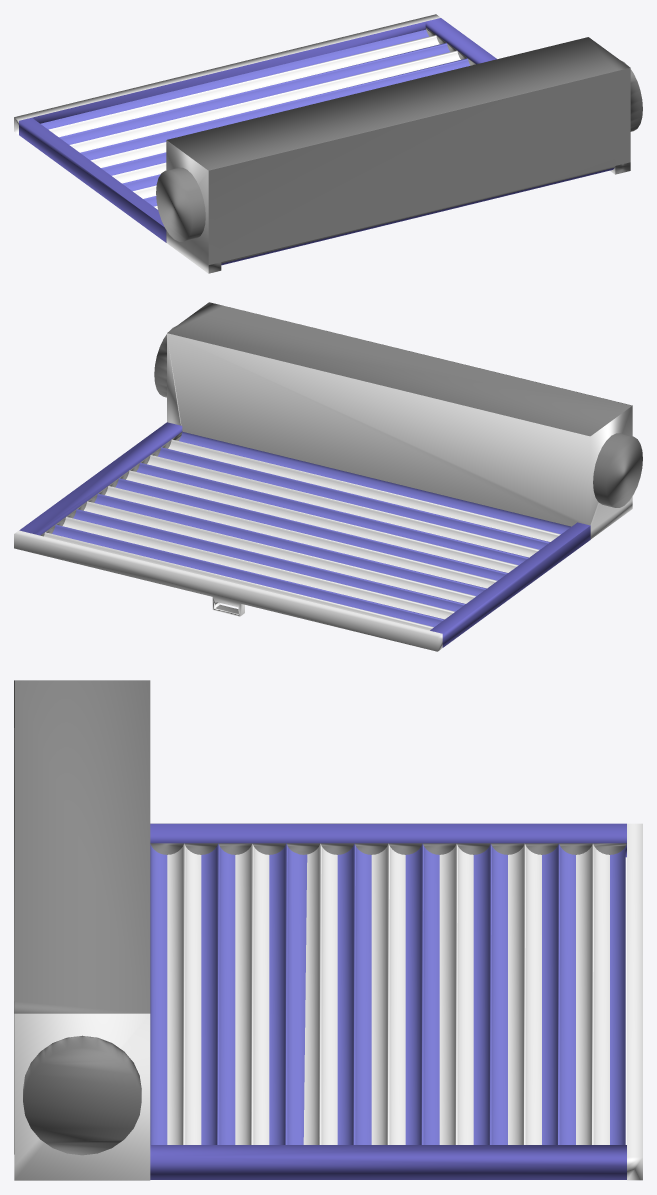
Rendered from Shutter.fbx.
3 views of the same model, one above another, from view 1: azimuth 30°, elevation 25°; view 2: azimuth 150°, elevation 25°; view 3: azimuth 270°, elevation 25° (orthographic). The views are drawn at different scales.
Visible parts, largest first — view 1: Layer0_001, Group01; view 2: Layer0_001, Group01; view 3: Layer0_001, Group01.
Boxes of the visible parts, x1,y1,x2,y2 form: Layer0_001: [14, 14, 642, 273]; Group01: [19, 18, 614, 265]; Layer0_001: [14, 302, 642, 651]; Group01: [19, 422, 590, 647]; Layer0_001: [14, 680, 642, 1180]; Group01: [150, 823, 626, 1179].
Size of the model in its own units: 165 by 40.56 by 123.
